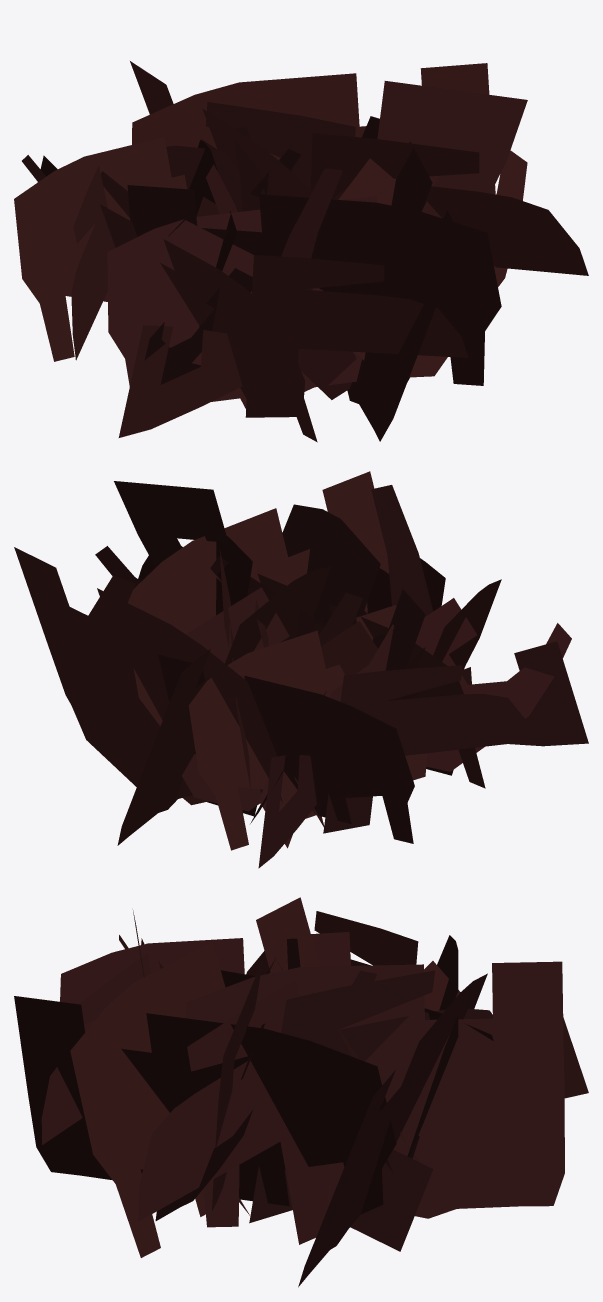
File: SM_ocean_scatterPlant_02_B.fbx
3 views of the same model, one above another, from view 1: azimuth 30°, elevation 25°; view 2: azimuth 150°, elevation 25°; view 3: azimuth 270°, elevation 25° (orthographic). The views are drawn at different scales.
Visible parts, largest first — view 1: SM_ocean_scatterPlant_02_B_LOD0; view 2: SM_ocean_scatterPlant_02_B_LOD0; view 3: SM_ocean_scatterPlant_02_B_LOD0.
Part boxes in pixels (bbox=[...]): SM_ocean_scatterPlant_02_B_LOD0: bbox=[14, 61, 588, 442]; SM_ocean_scatterPlant_02_B_LOD0: bbox=[14, 471, 588, 868]; SM_ocean_scatterPlant_02_B_LOD0: bbox=[14, 897, 588, 1287].
Size of what is drawn, in the model's own units: 89.26 by 88.61 by 50.
